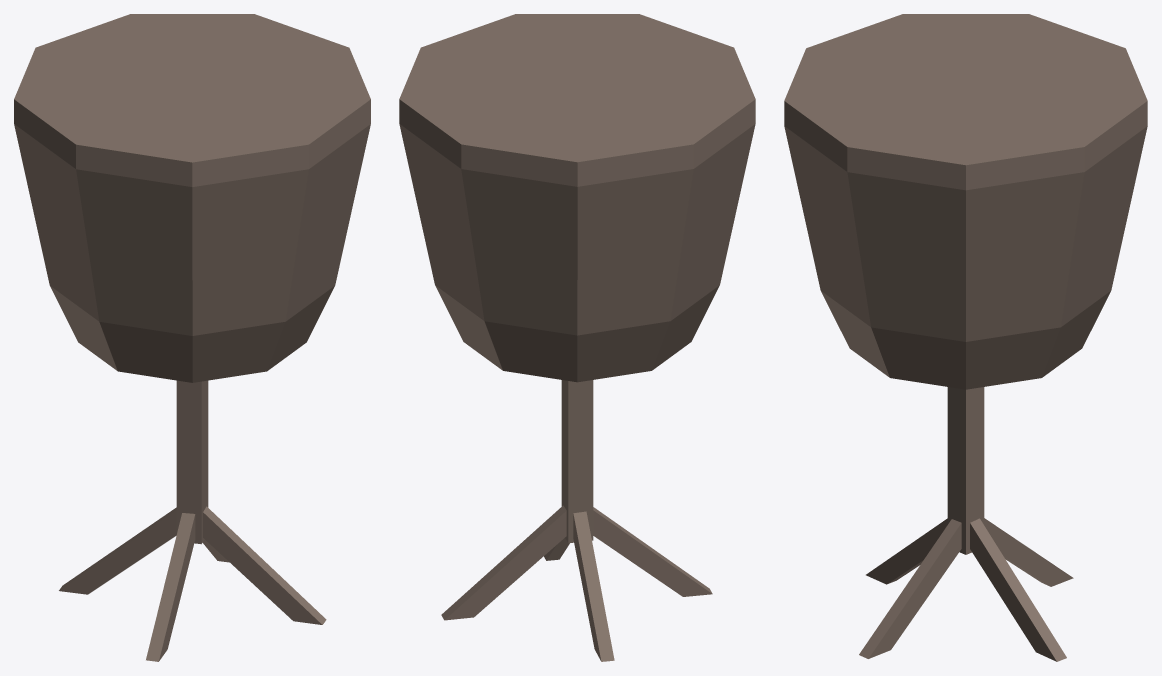
The model's file is PAUKE_IE.OBJ.
3 views of the same model, side by side, from view 1: azimuth 30°, elevation 25°; view 2: azimuth 150°, elevation 25°; view 3: azimuth 270°, elevation 25° (orthographic). The views are drawn at different scales.
Parts seen in each view (by area): view 1: PAUKE_IE; view 2: PAUKE_IE; view 3: PAUKE_IE.
Part boxes in pixels (<box>): PAUKE_IE: <box>14,14,370,661</box>; PAUKE_IE: <box>399,14,755,661</box>; PAUKE_IE: <box>784,14,1147,661</box>.
Size of the model in its own units: 0.6132 by 1 by 0.6226.
